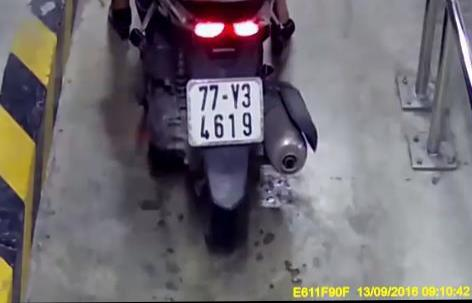License_Plate: (179, 72, 270, 152)
